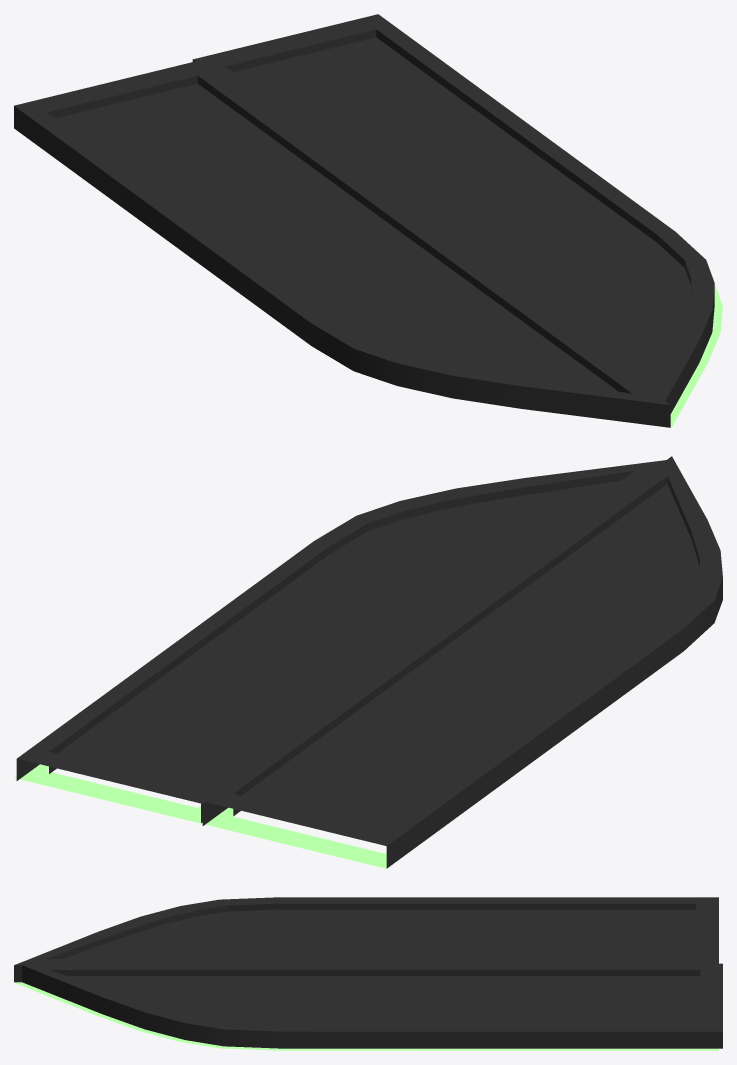
Rendered from door 1.FBX.
3 renders of one model, top to bottom at view 1: azimuth 30°, elevation 25°; view 2: azimuth 150°, elevation 25°; view 3: azimuth 270°, elevation 25°, orthographic. The views are drawn at different scales.
Parts seen in each view (by area): view 1: Box252, Box253, Group007; view 2: Box252, Box253, Group007; view 3: Box253, Box252, Group007.
Part boxes in pixels (left/top/right/bottom): Box252: left=14, top=61, right=670, bottom=427; Box253: left=192, top=14, right=714, bottom=413; Group007: left=670, top=284, right=722, bottom=427; Box252: left=201, top=456, right=722, bottom=868; Box253: left=16, top=459, right=672, bottom=825; Group007: left=14, top=764, right=386, bottom=868; Box253: left=18, top=963, right=722, bottom=1048; Box252: left=14, top=897, right=718, bottom=982; Group007: left=14, top=982, right=718, bottom=1050.
Size of the model in its own units: 22.89 by 1.33 by 50.41.
